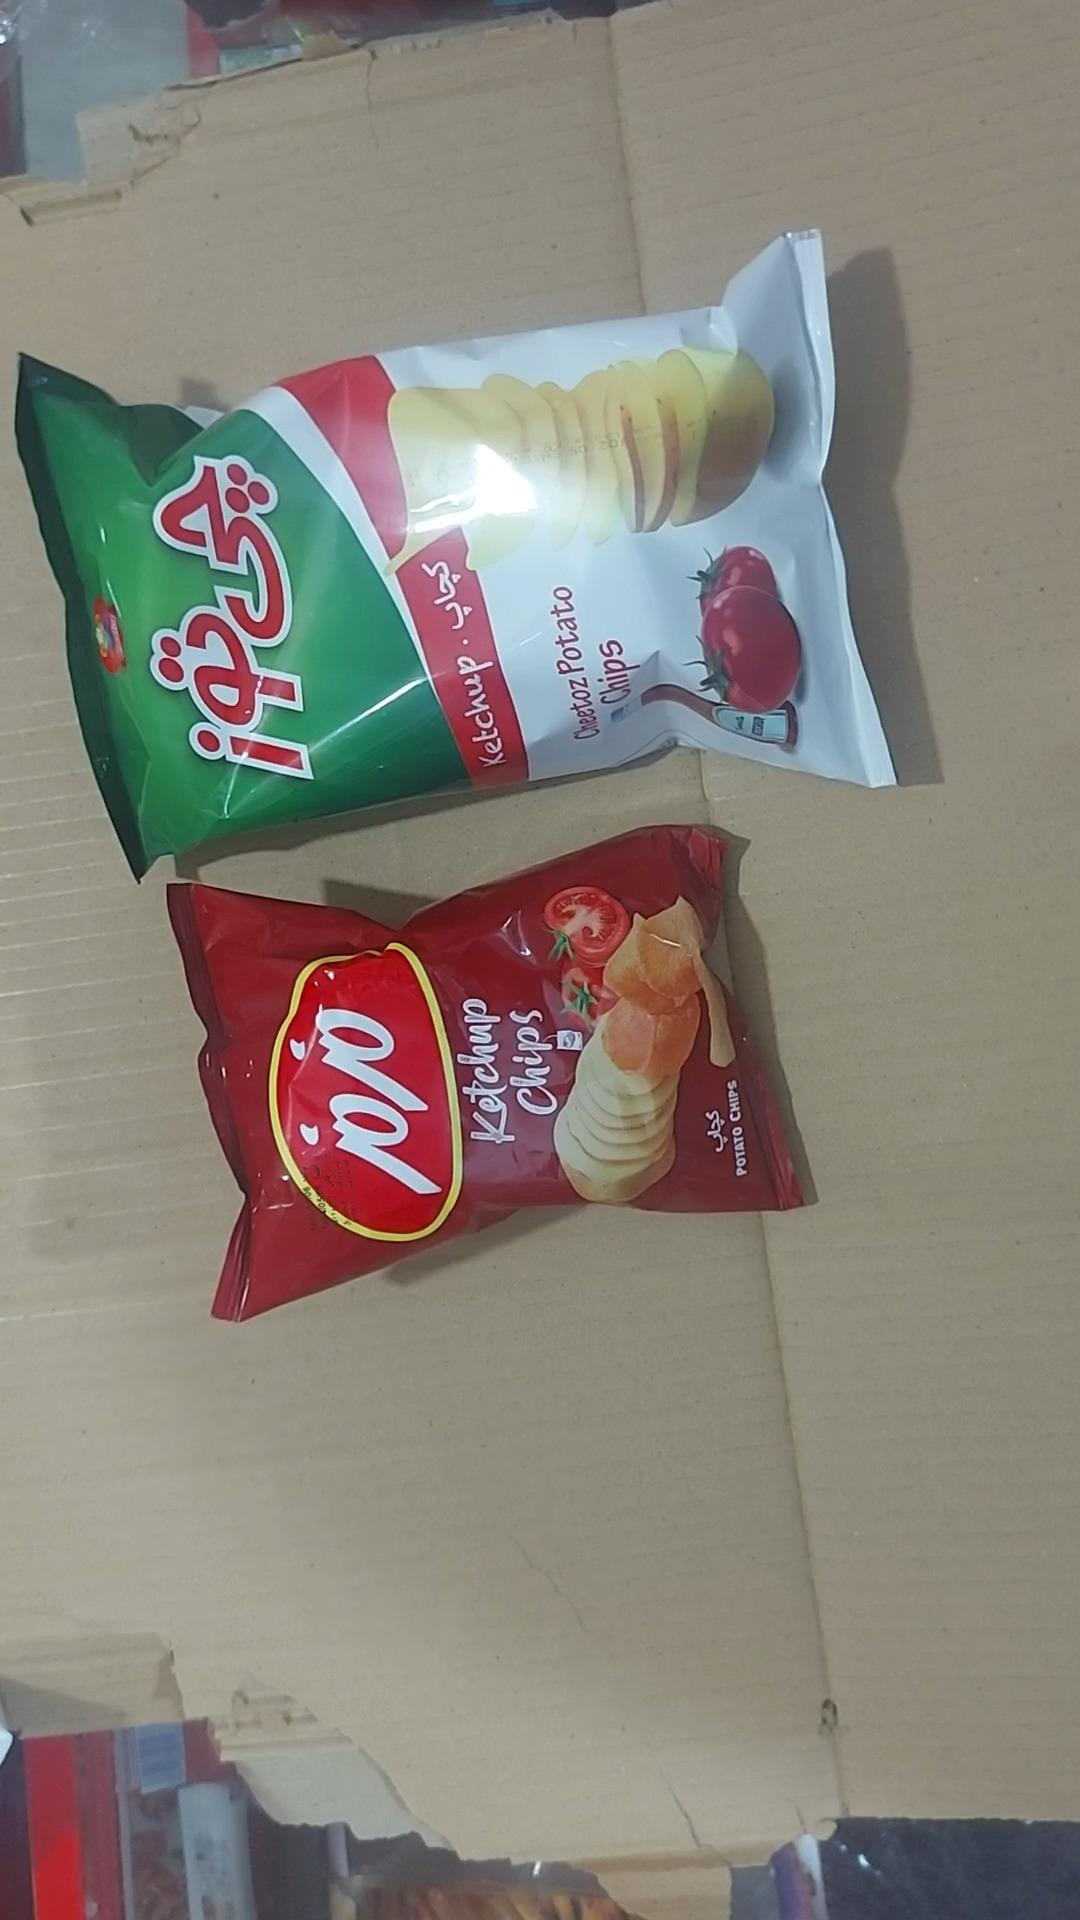Cheetoz ketchup chips: (15, 233, 894, 878)
Maz Maz ketchup chips: (167, 828, 804, 1321)
